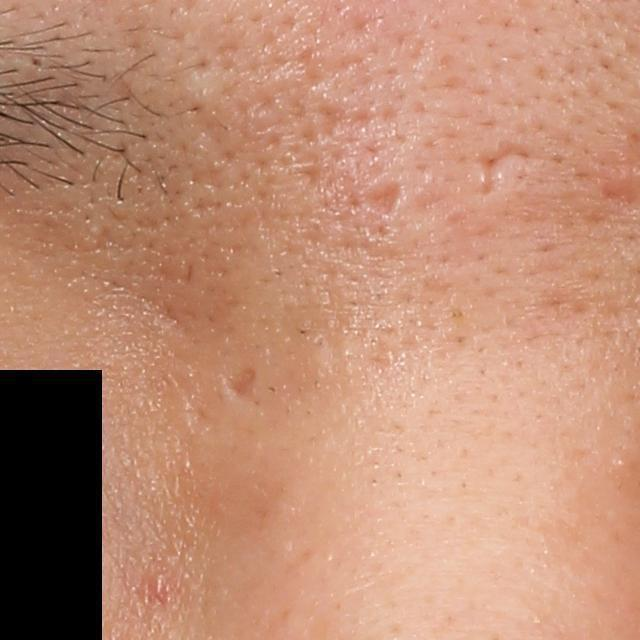atrophic_scar: (476, 142, 545, 198), (359, 180, 406, 219), (223, 365, 258, 402)
comedo: (25, 53, 49, 70)
hypertrophic_scar: (184, 71, 240, 118)
